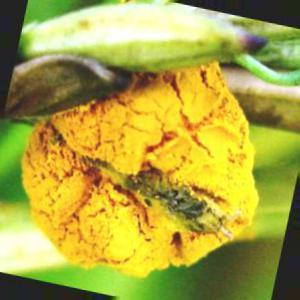False Smut: (116, 66, 215, 265), (69, 106, 109, 265), (220, 83, 250, 234), (26, 114, 59, 235)
